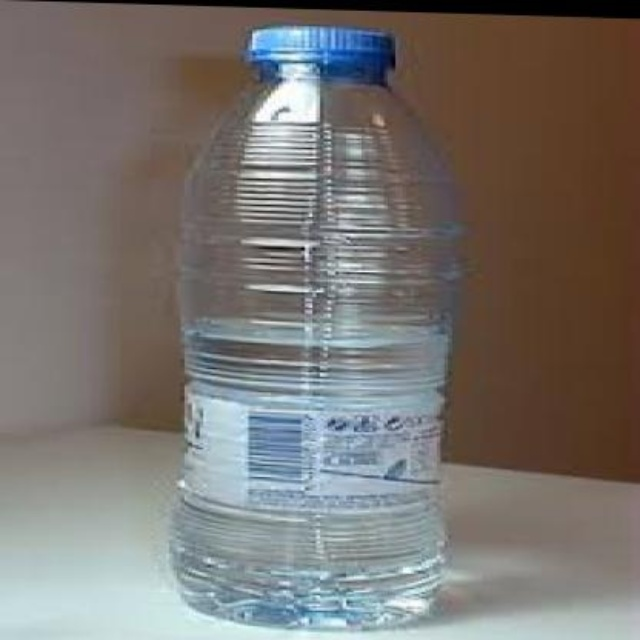trash: (172, 25, 457, 626)
